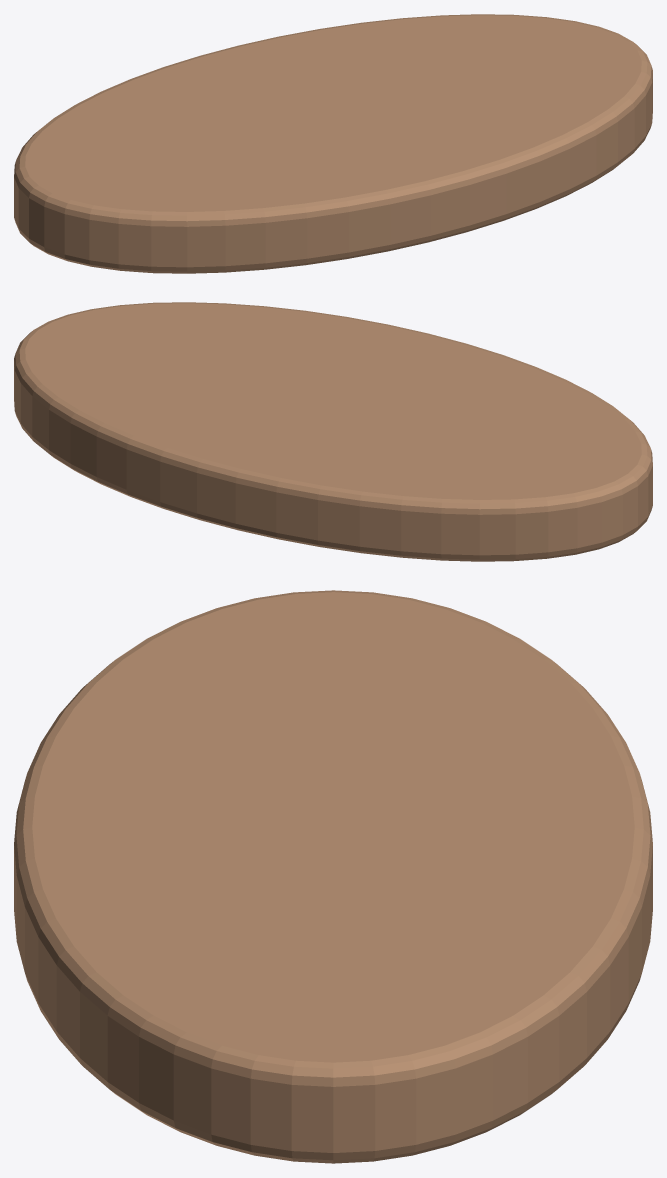
Rendered from SM_UI_ChoiceChip.glb.
3 views of the same model, one above another, from view 1: azimuth 30°, elevation 25°; view 2: azimuth 150°, elevation 25°; view 3: azimuth 270°, elevation 25° (orthographic). The views are drawn at different scales.
Parts seen in each view (by area): view 1: SM_UI_ChoiceChip; view 2: SM_UI_ChoiceChip; view 3: SM_UI_ChoiceChip.
Part boxes in pixels (left/top/right/bottom): SM_UI_ChoiceChip: left=14, top=14, right=652, bottom=273; SM_UI_ChoiceChip: left=14, top=302, right=652, bottom=561; SM_UI_ChoiceChip: left=14, top=590, right=652, bottom=1163.
Bounding box in the file's own units: 1.26 × 0.12 × 0.7.
